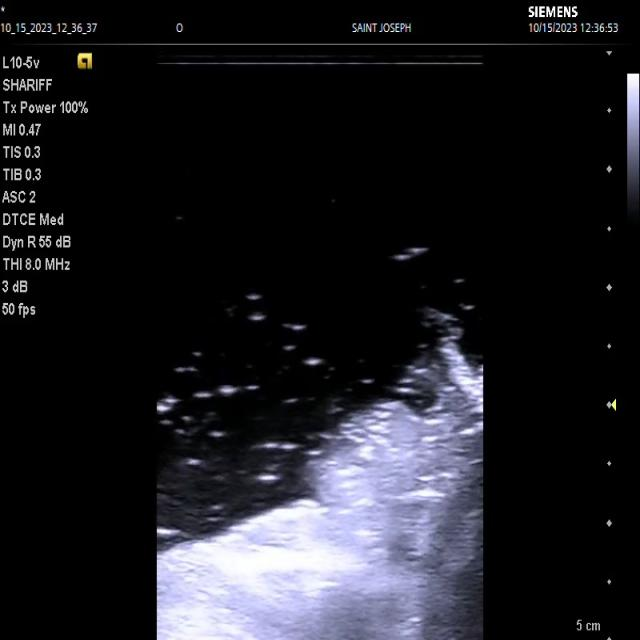tissue: (157, 311, 483, 640)
